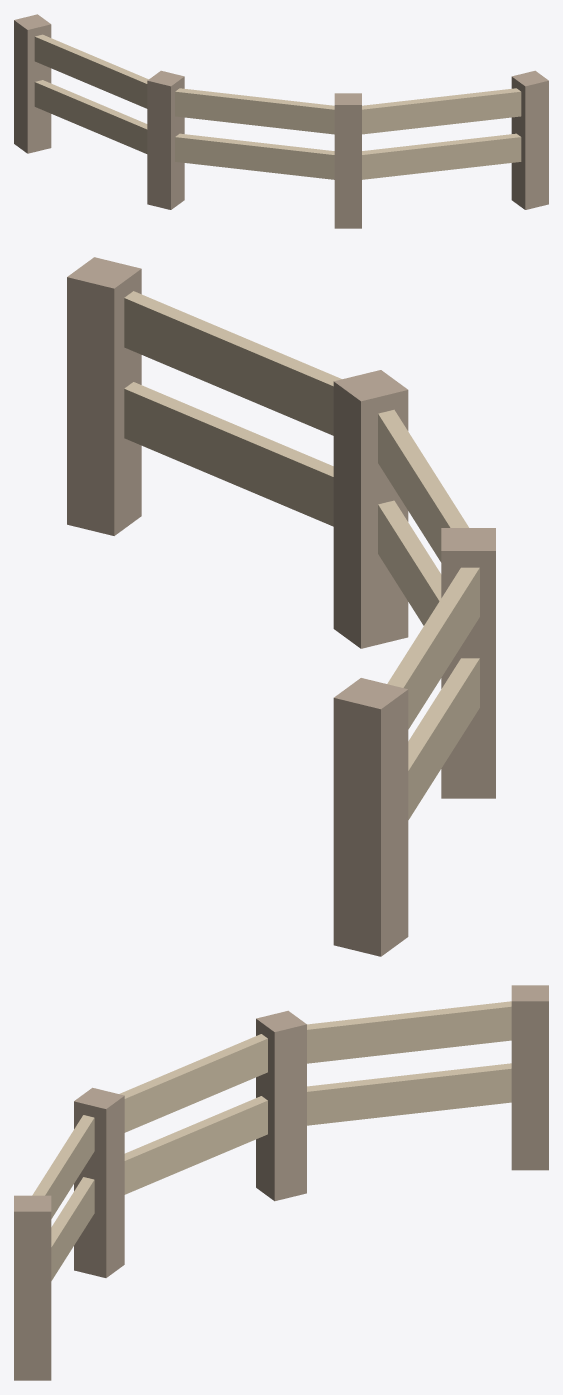
Rendered from Prop_Fence_Curve_2x2.gltf.
The picture shows the model from 3 angles, top to bottom: view 1: azimuth 30°, elevation 25°; view 2: azimuth 150°, elevation 25°; view 3: azimuth 270°, elevation 25°; orthographic projection. The views are drawn at different scales.
Parts seen in each view (by area): view 1: object10, object8, object3, object4, object7, object9, object6, object5, object1, object2; view 2: object6, object9, object5, object4, object3, object7, object2, object10, object1, object8; view 3: object7, object1, object2, object5, object6, object9, object10, object8, object4, object3.
Part boxes in pixels (<box>): object10: <box>175,88,334,134</box>; object8: <box>175,133,334,179</box>; object3: <box>362,133,521,179</box>; object4: <box>362,88,521,134</box>; object7: <box>147,70,184,209</box>; object9: <box>511,70,548,209</box>; object6: <box>14,14,51,153</box>; object5: <box>334,93,361,228</box>; object1: <box>34,80,147,153</box>; object2: <box>34,34,148,108</box>; object6: <box>333,678,408,956</box>; object9: <box>67,257,141,535</box>; object5: <box>333,370,408,648</box>; object4: <box>124,291,341,435</box>; object3: <box>124,382,333,526</box>; object7: <box>441,528,495,798</box>; object2: <box>387,567,479,729</box>; object10: <box>378,409,468,562</box>; object1: <box>408,658,479,819</box>; object8: <box>378,500,441,625</box>; object7: <box>256,1010,306,1201</box>; object1: <box>307,1063,511,1125</box>; object2: <box>307,1001,511,1063</box>; object5: <box>74,1087,124,1277</box>; object6: <box>511,985,548,1170</box>; object9: <box>14,1195,51,1380</box>; object10: <box>119,1034,267,1132</box>; object8: <box>124,1096,267,1194</box>; object4: <box>32,1115,94,1218</box>; object3: <box>51,1177,94,1280</box>.
Bounding box in the file's own units: 2.15 × 0.7498 × 2.15.
